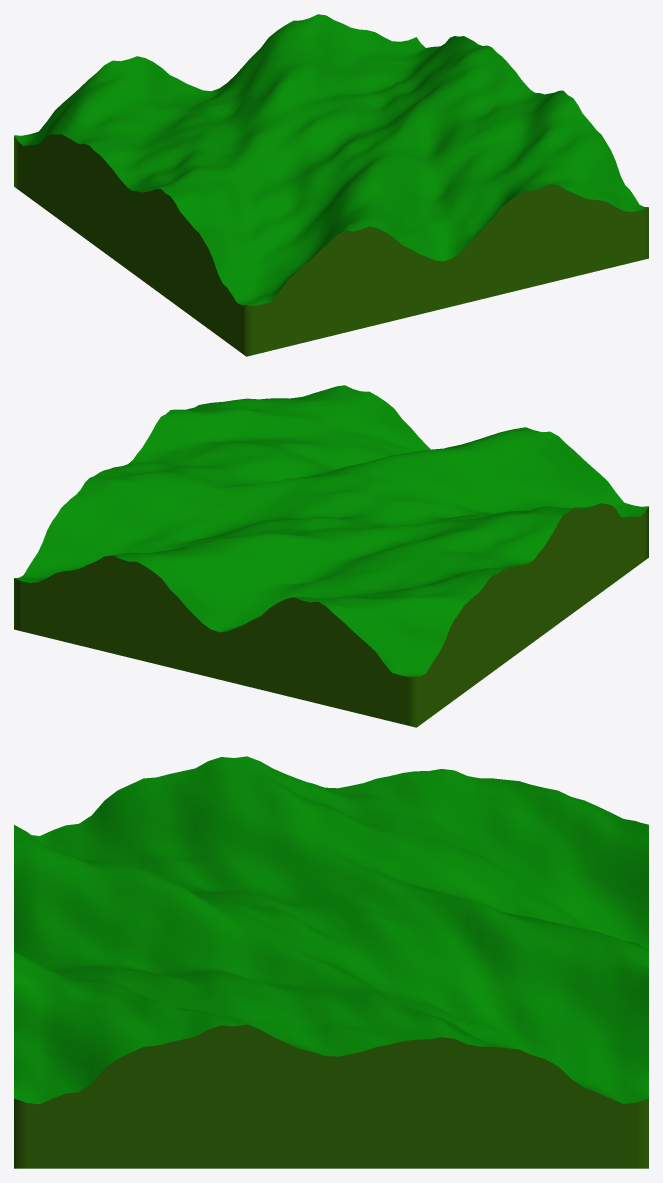
Rendered from plain.glb.
3 renders of one model, top to bottom at view 1: azimuth 30°, elevation 25°; view 2: azimuth 150°, elevation 25°; view 3: azimuth 270°, elevation 25°, orthographic. The views are drawn at different scales.
Parts seen in each view (by area): view 1: Plane.001; view 2: Plane.001; view 3: Plane.001.
Boxes of the visible parts, x1=… form: Plane.001: x1=14, y1=14, x2=648, y2=356; Plane.001: x1=14, y1=385, x2=648, y2=727; Plane.001: x1=14, y1=756, x2=648, y2=1168.
Size of the model in its own units: 20 by 5 by 20.
